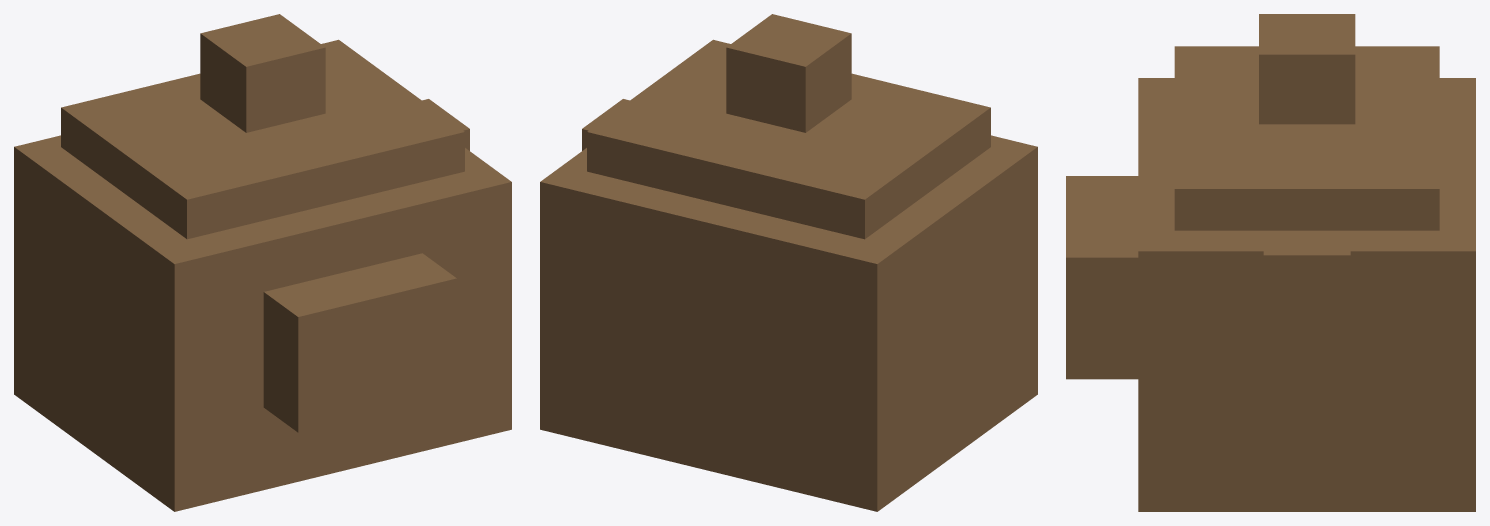
File: canner.glb
The picture shows the model from 3 angles, left to right: view 1: azimuth 30°, elevation 25°; view 2: azimuth 150°, elevation 25°; view 3: azimuth 270°, elevation 25°; orthographic projection. The views are drawn at different scales.
Visible parts, largest first — view 1: module.canner; view 2: module.canner; view 3: module.canner.
Boxes of the visible parts, box(x1,y1,x2,y2) form: module.canner: box(14, 14, 511, 511); module.canner: box(540, 14, 1037, 511); module.canner: box(1066, 14, 1475, 511).
Bounding box in the file's own units: 1 × 1 × 0.9497.
